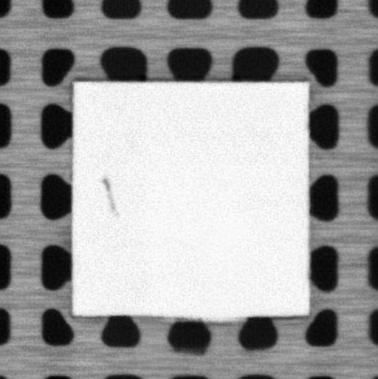DIE_INK: (101, 178, 117, 214)
